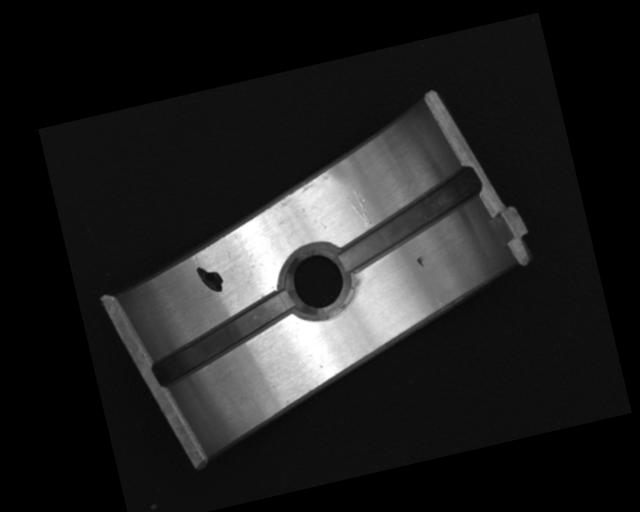blot: (195, 262, 226, 297)
bruise: (415, 256, 426, 269)
gap: (327, 165, 491, 275), (143, 292, 303, 389)
hole: (281, 240, 357, 325)
nick: (344, 185, 372, 230)
